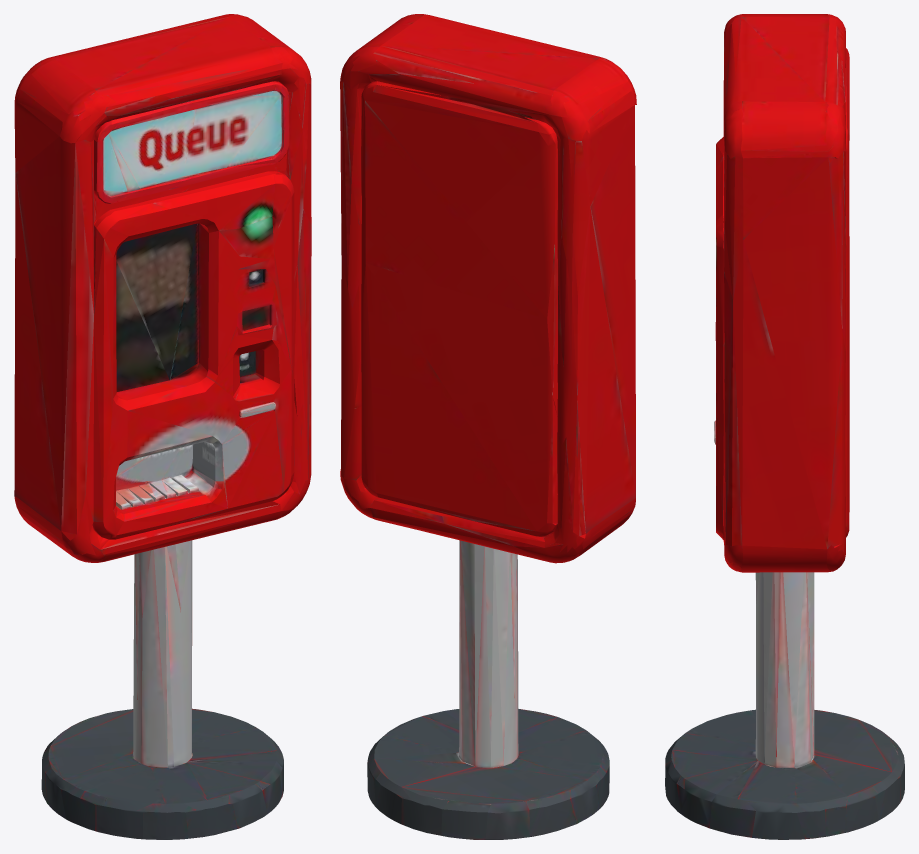
File: ticket.glb
The picture shows the model from 3 angles, left to right: view 1: azimuth 30°, elevation 25°; view 2: azimuth 150°, elevation 25°; view 3: azimuth 270°, elevation 25°; orthographic projection.
Size of the model in its own units: 0.6752 by 1.9 by 0.5664.
1 material, 1 textured.
